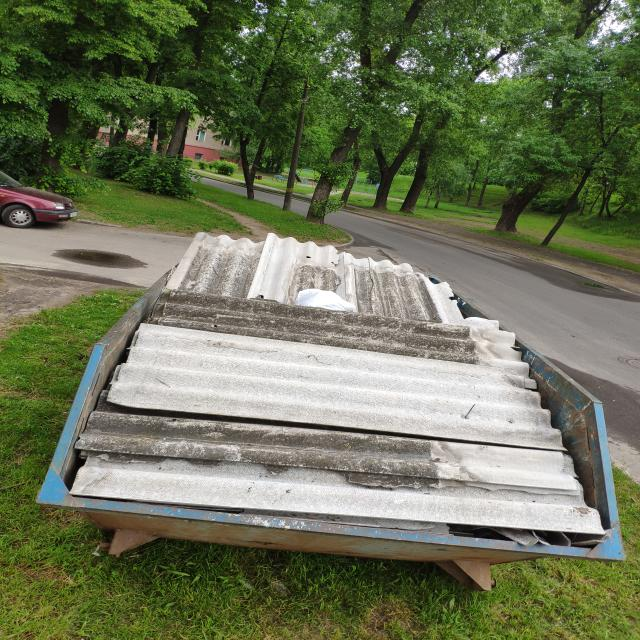entulho: (87, 407, 606, 536), (97, 324, 563, 449), (180, 228, 467, 324)
